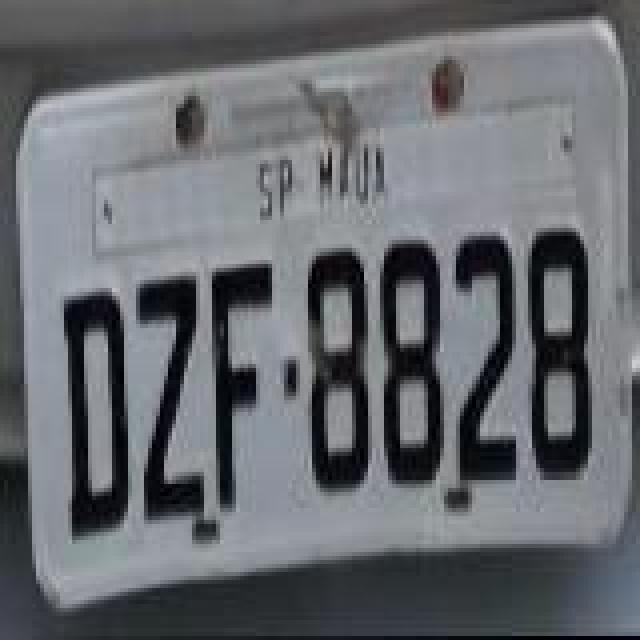2: (456, 234, 520, 482)
8: (380, 238, 444, 494), (528, 224, 592, 480), (304, 250, 368, 498)
D: (62, 288, 130, 544)
F: (208, 264, 272, 516)
Z: (134, 272, 202, 528)
